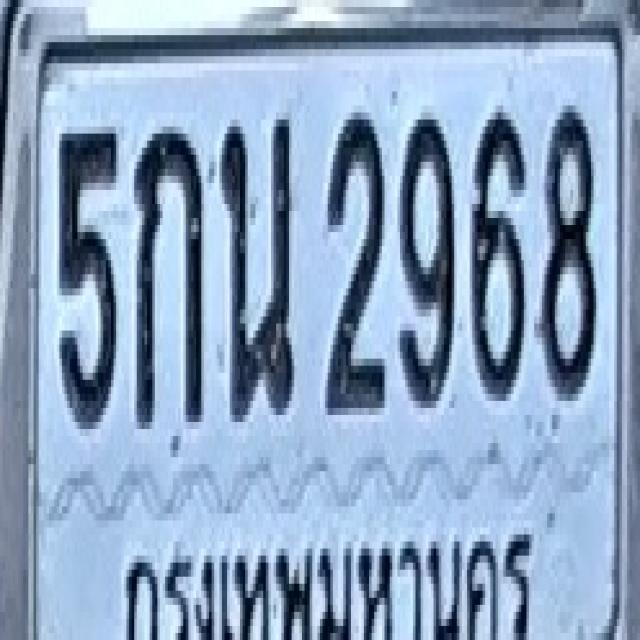-: (220, 113, 294, 422), (134, 123, 201, 426)
2: (325, 109, 385, 411)
5: (58, 123, 117, 426)
6: (471, 105, 525, 401)
8: (539, 102, 596, 397)
9: (398, 112, 454, 408)
BKK: (110, 492, 544, 640)
